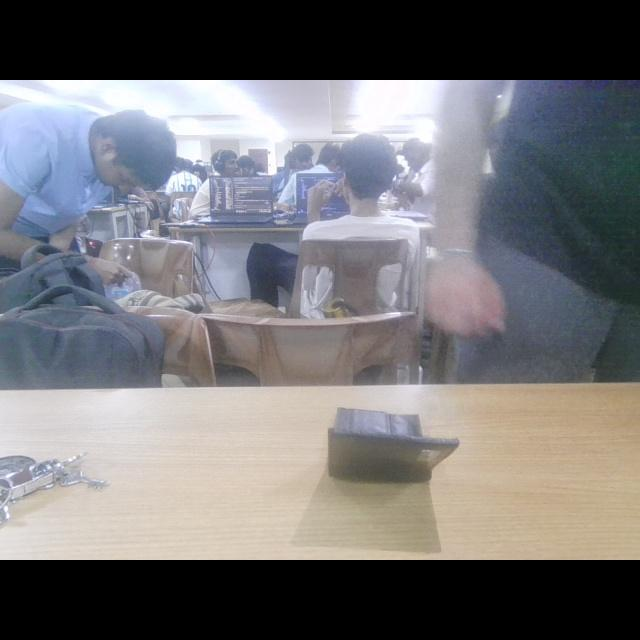keys: (1, 426, 115, 536)
wallet: (322, 397, 474, 498)
